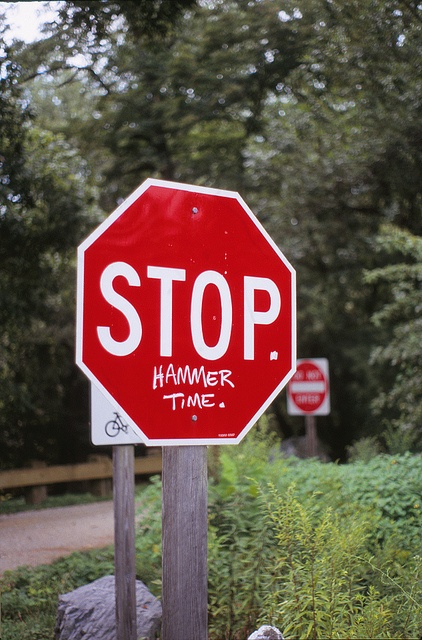bicycle: (104, 412, 234, 640)
stop sign: (75, 175, 373, 623)
